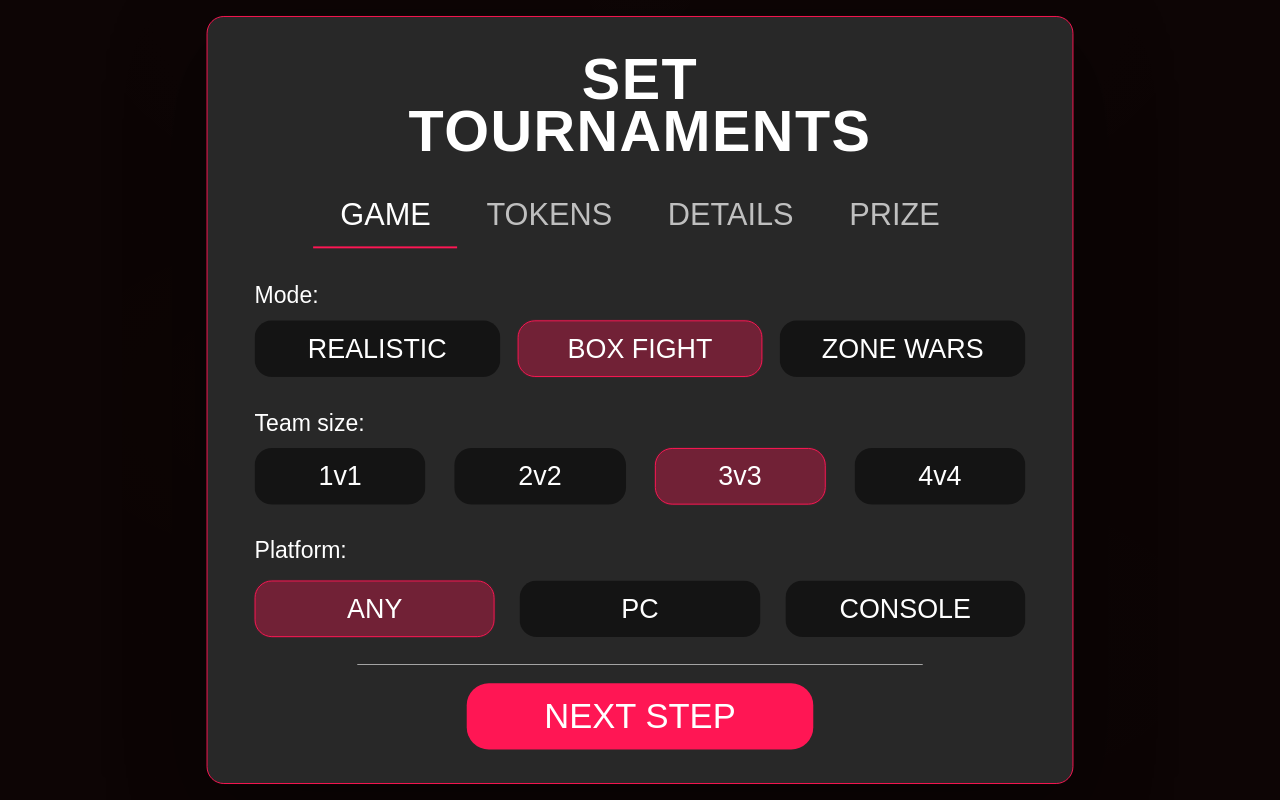
it: CreateTournamentOverlay › follows the figma-style game to tokens to details wizard flow
expect the tab "DETAILS" is shown: met, box [668,192,794,249]
expect the tab "PRIZE" is shown: met, box [849,192,940,249]
Click the button "NEXT STEP". click: click(640, 716)
box: [467,683,813,749]
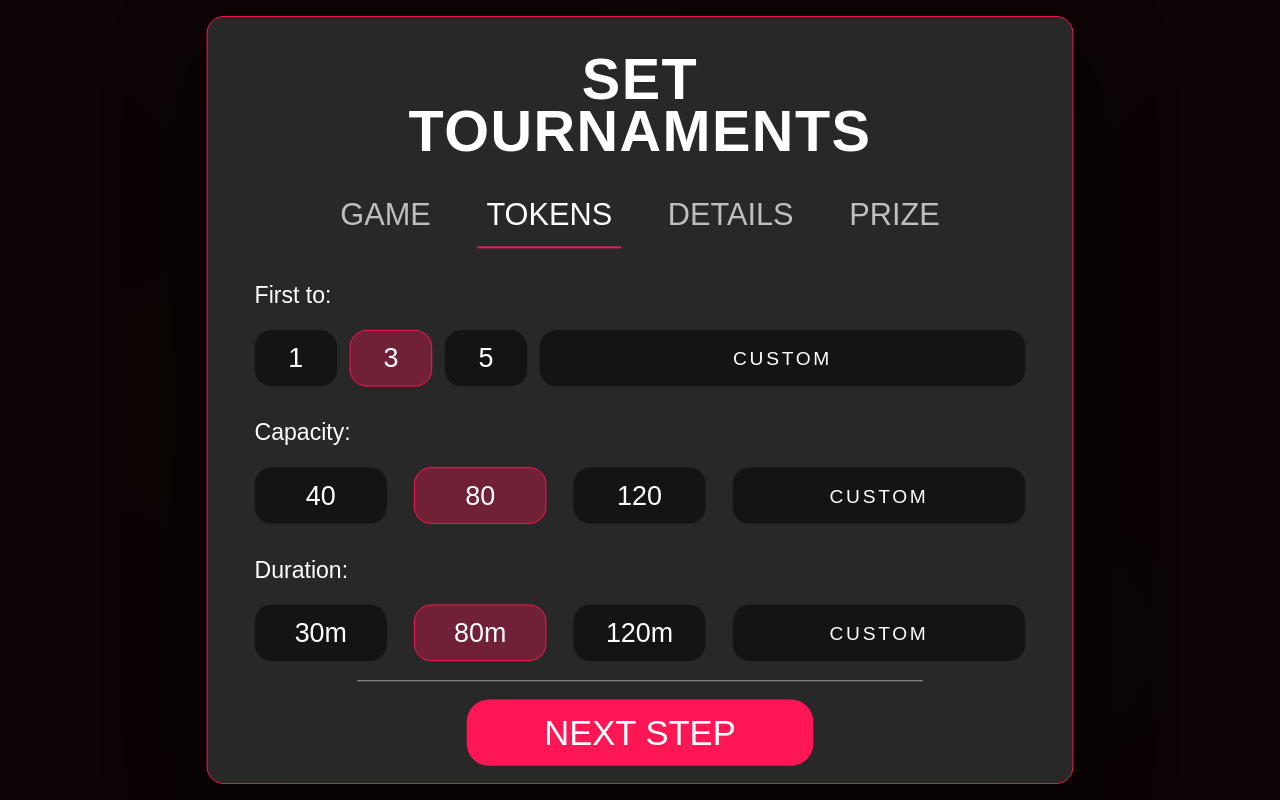
expect the text "First to:" is shown: met, box [255,282,331,308]
Click the button "NEXT STEP". click: click(640, 733)
box: [467,700,813,766]
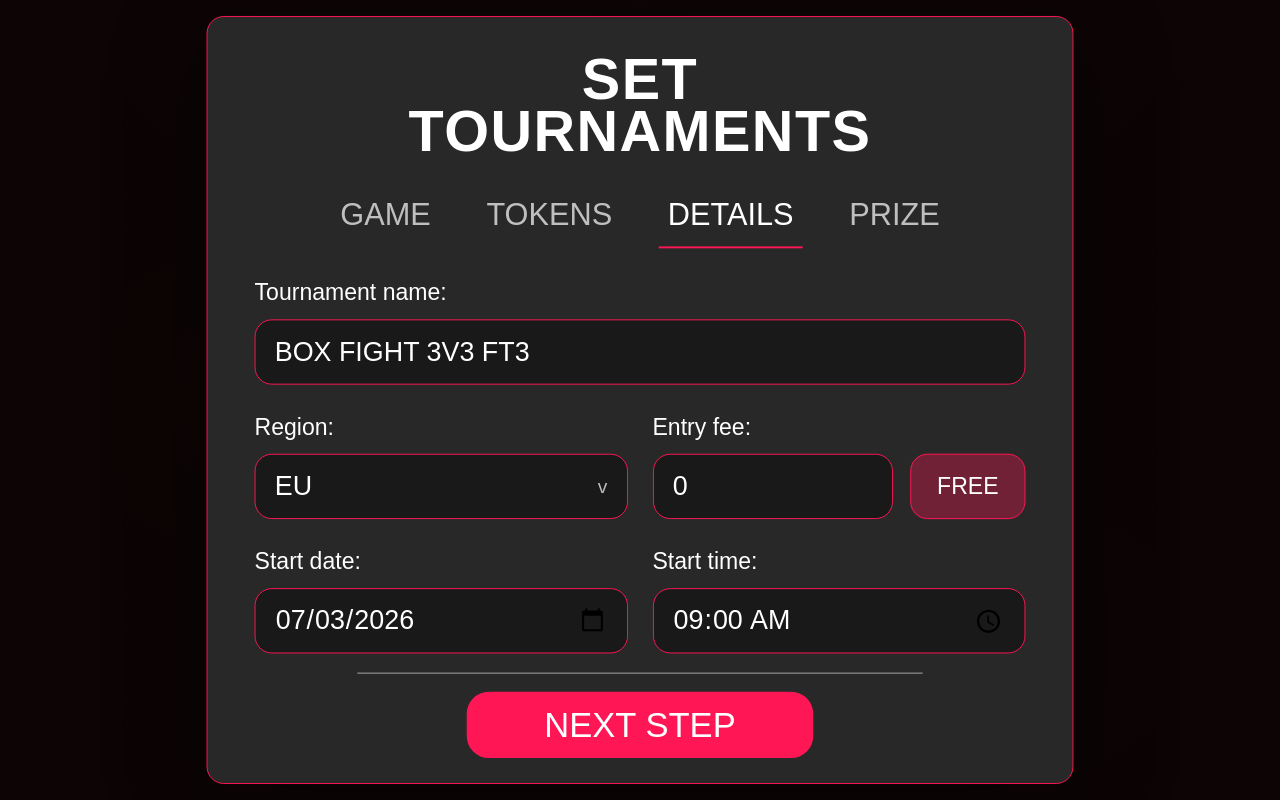
expect the button "create tournament" is not shown: met
expect the element with test id "tournament-name-field" is shown: met, box [255,320,1026,385]
Click the button "NEXT STEP". click: click(640, 725)
box: [467,692,813,758]
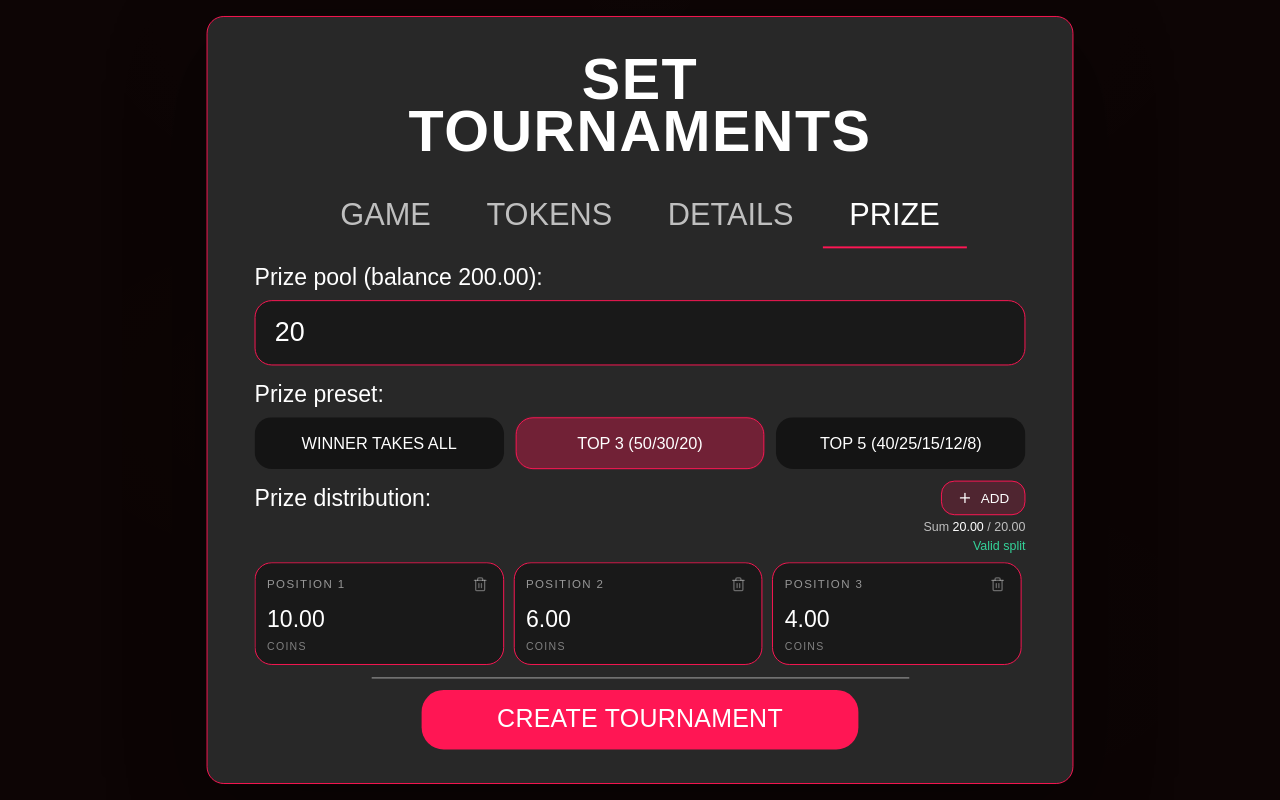
expect the button "CREATE TOURNAMENT" is shown: met, box [422,690,858,749]
expect the element with test id "prize-distribution-grid" is shown: met, box [255,563,1022,665]
